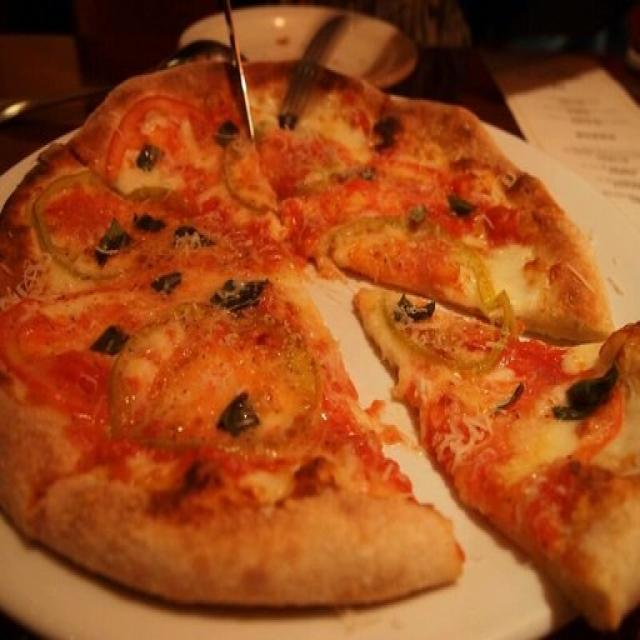Basil: (553, 372, 619, 422), (88, 211, 128, 262), (487, 379, 527, 428), (219, 382, 255, 434), (395, 291, 441, 325), (213, 281, 264, 307), (448, 182, 478, 222), (168, 221, 214, 247), (89, 323, 127, 353), (212, 111, 239, 146), (152, 268, 185, 294), (135, 144, 160, 174), (127, 214, 166, 226)
Green Pepper: (22, 166, 96, 285), (451, 232, 513, 370), (333, 212, 455, 251), (217, 149, 279, 218), (130, 424, 288, 451), (292, 347, 329, 433), (402, 332, 472, 372), (297, 152, 364, 192), (225, 309, 299, 345), (148, 297, 218, 330), (108, 351, 124, 429)
Pizza: (0, 63, 640, 626)
Red Pepper: (6, 298, 90, 426), (113, 91, 209, 143)
